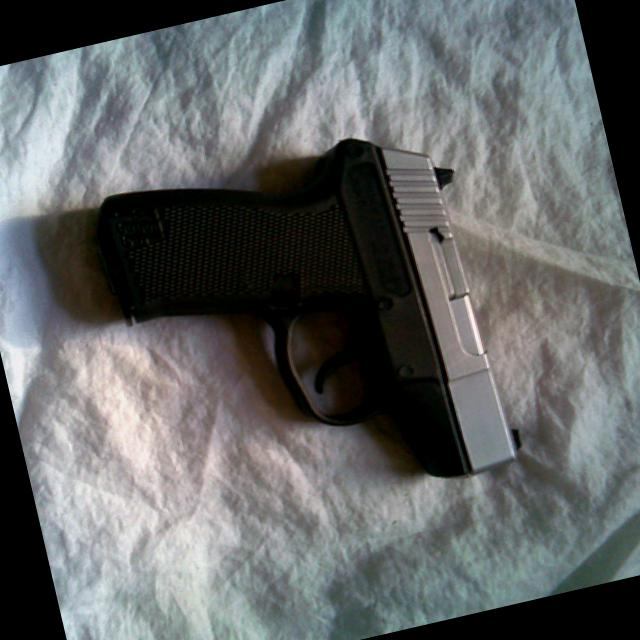handgun: (92, 116, 520, 544)
